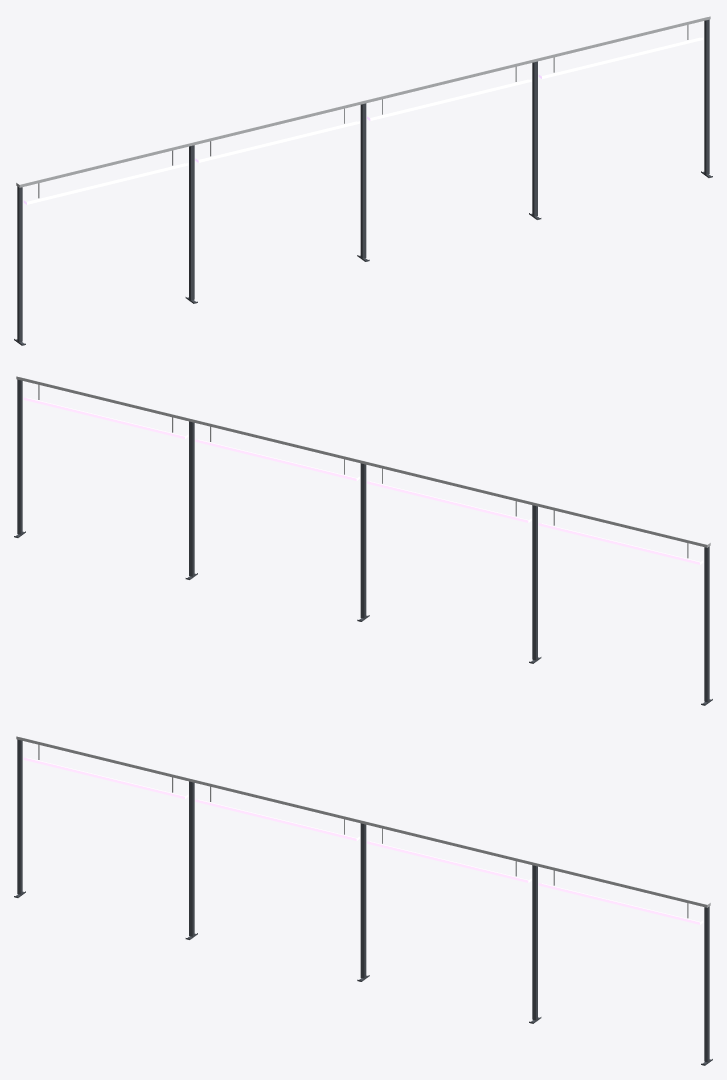
File: ext_grow_light_rack.glb
3 renders of one model, top to bottom at view 1: azimuth 30°, elevation 25°; view 2: azimuth 150°, elevation 25°; view 3: azimuth 330°, elevation 25°, orthographic.
Parts seen in each view (by area): view 1: Posts, Top_Beam, Light_Bars; view 2: Posts, Top_Beam, Light_Bars; view 3: Posts, Top_Beam, Light_Bars.
Boxes of the visible parts, <box> form: Posts: <box>17,19,709,342</box>; Top_Beam: <box>16,16,710,187</box>; Light_Bars: <box>23,37,703,204</box>; Posts: <box>17,379,709,702</box>; Top_Beam: <box>16,376,710,547</box>; Light_Bars: <box>23,397,703,564</box>; Posts: <box>17,739,709,1062</box>; Top_Beam: <box>16,736,710,907</box>; Light_Bars: <box>23,757,703,924</box>.
Size of the model in its own units: 10 by 2.2 by 0.2.
